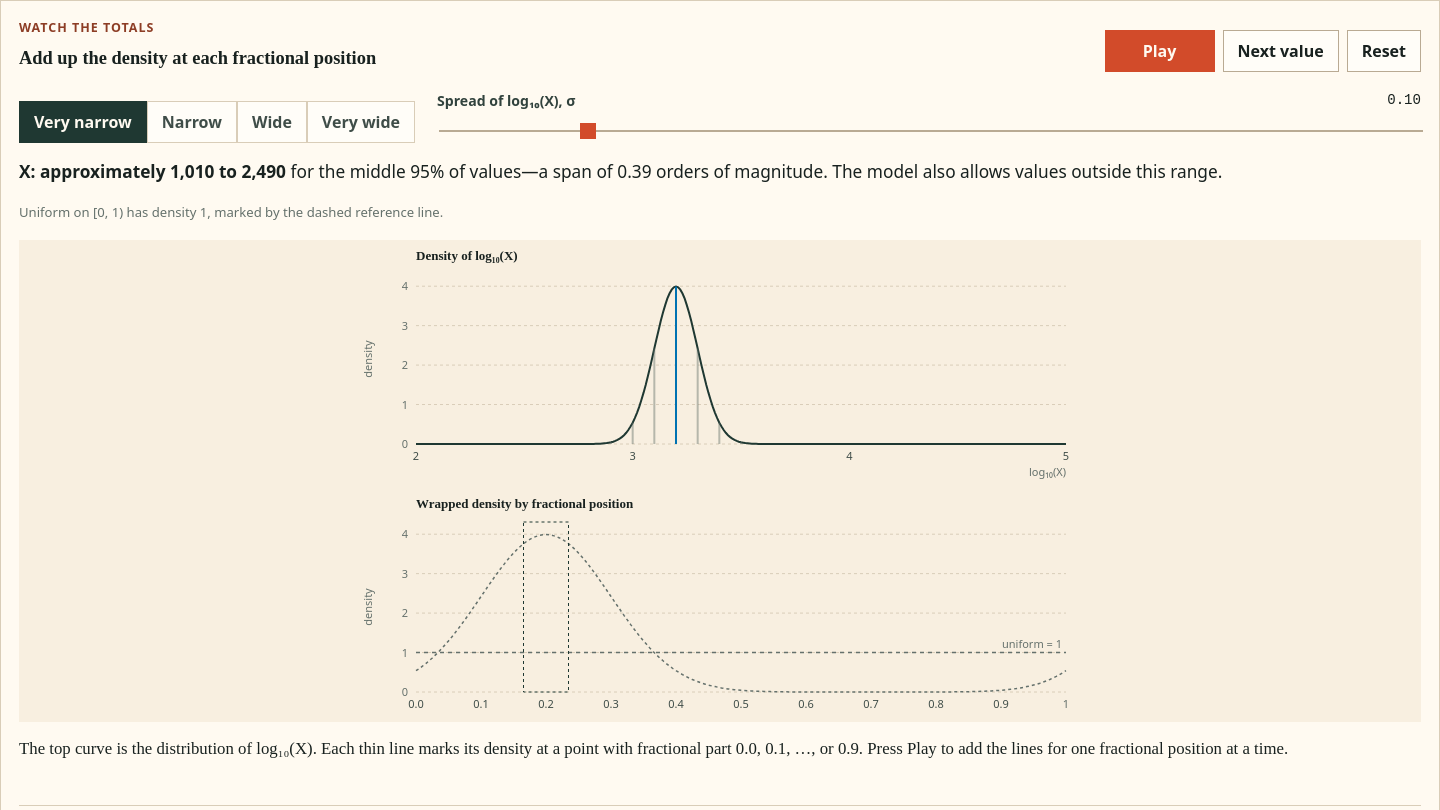
Test case: WrapAnimation › shows the middle 95% range of X beside the spread controls
Step 1. Click the button "Narrow" → (192, 122), box [147, 101, 237, 143]
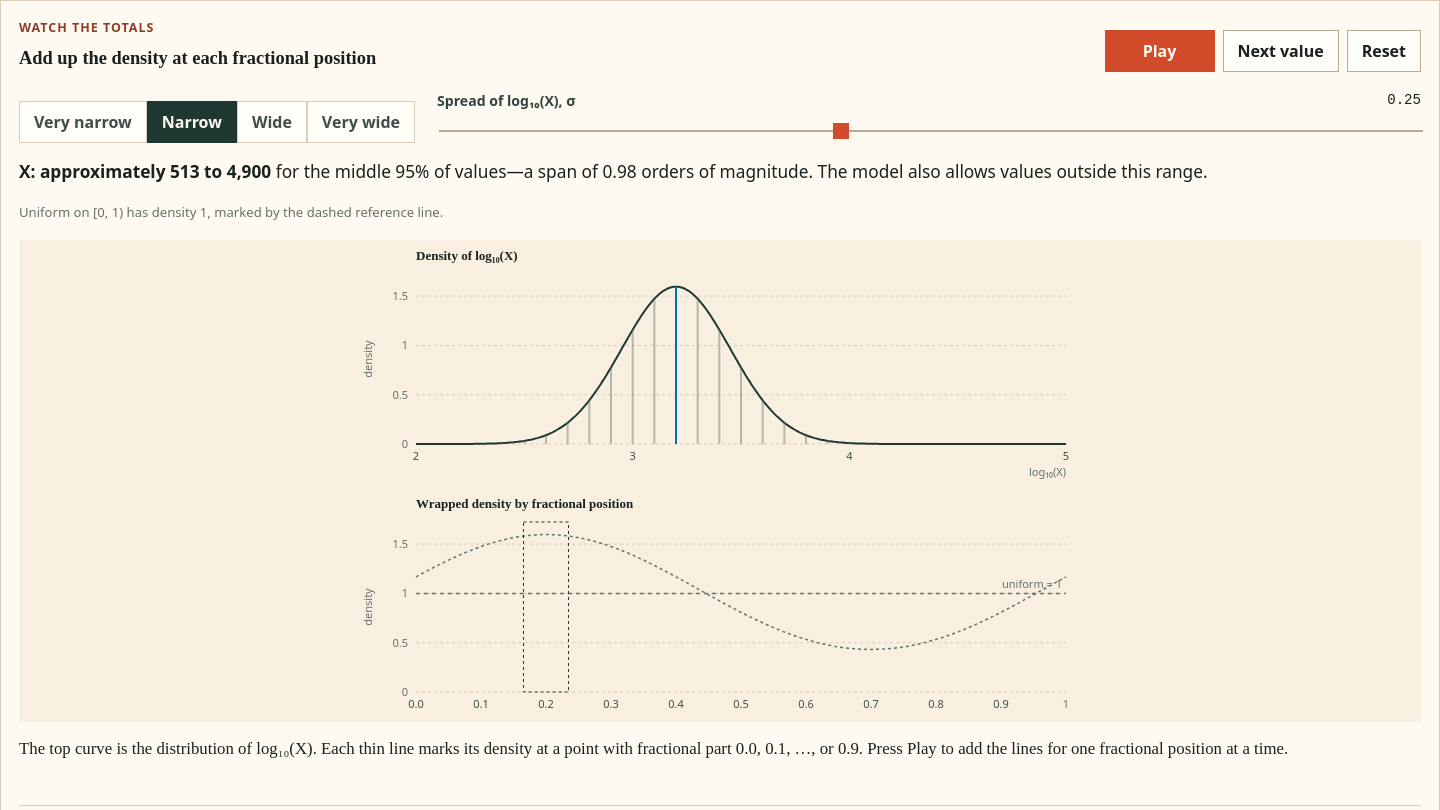
Check: the message named "Range of original values" shows "513 to 4,900", box [19, 160, 1208, 183]
Check: the message named "Range of original values" shows "0.98 orders of magnitude", box [19, 160, 1208, 183]
Step 2. Set the slider labelled "Spread of log₁₀(X), σ" to "1000" → (1415, 131), box [439, 121, 1423, 141]
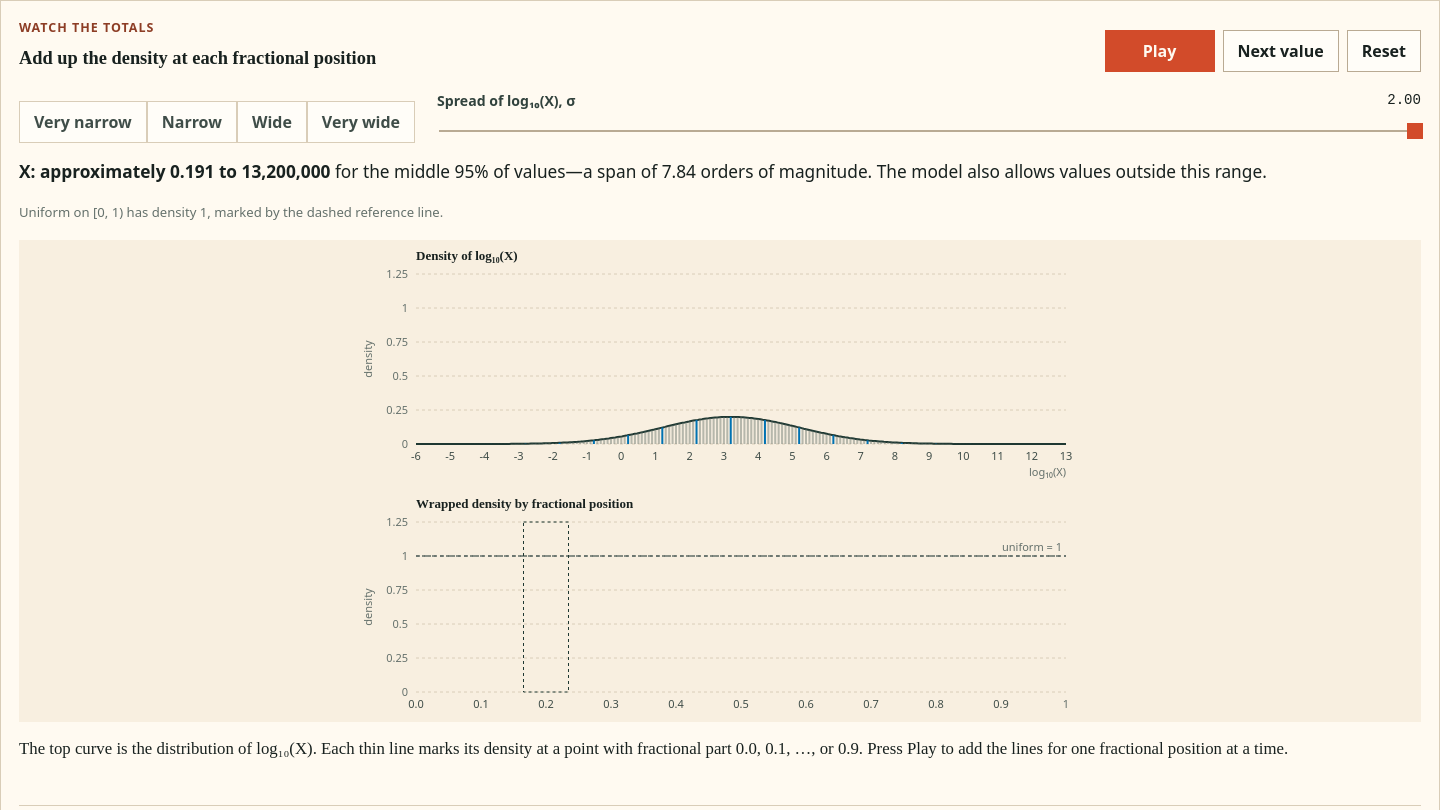
Check: the message named "Range of original values" shows "middle 95%", box [335, 160, 662, 183]
Check: the message named "Range of original values" shows "7.84 orders of magnitude", box [19, 159, 1421, 185]
